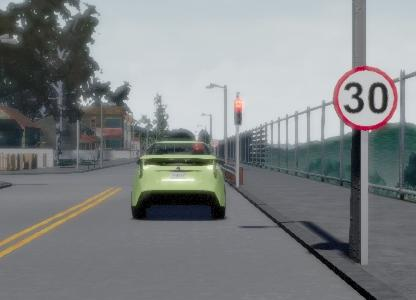Speed_30: (332, 62, 399, 131)
